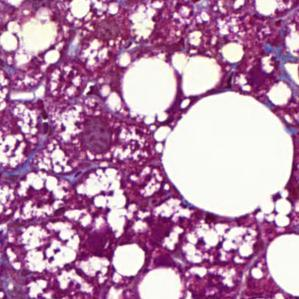steatosis: (162, 88, 296, 212)
